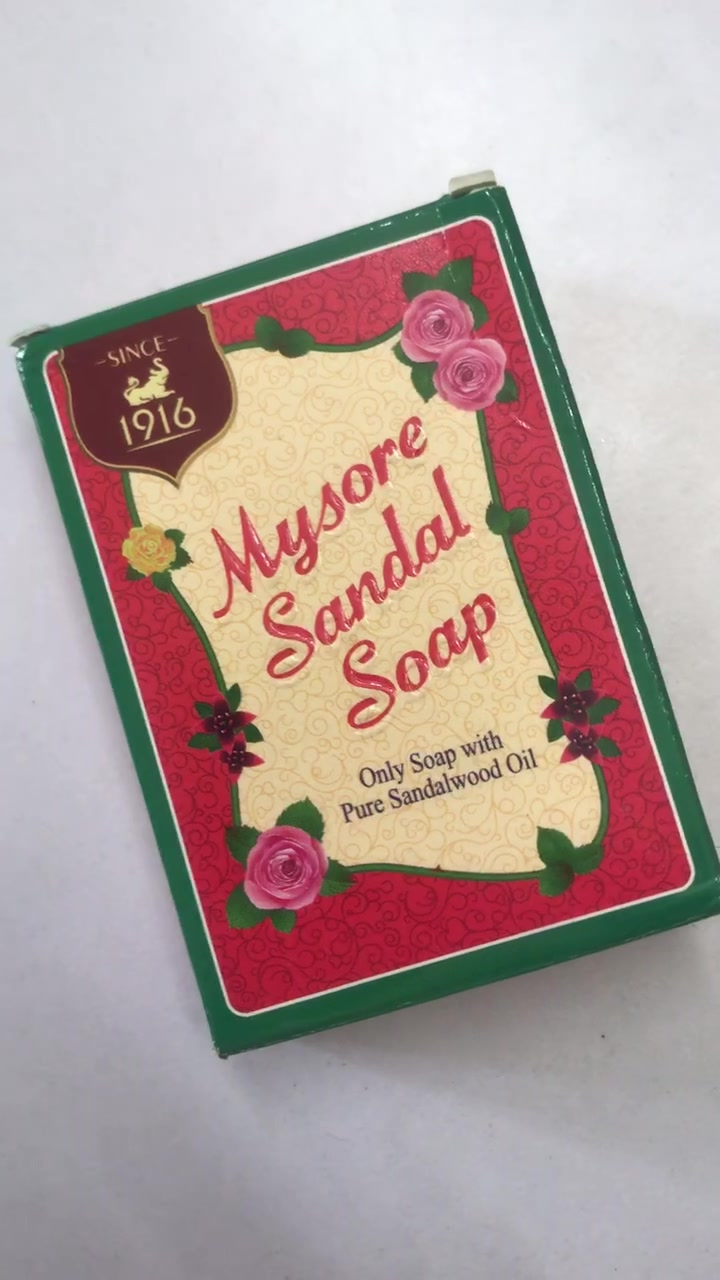mysore sandal soap: (17, 187, 720, 1060)
